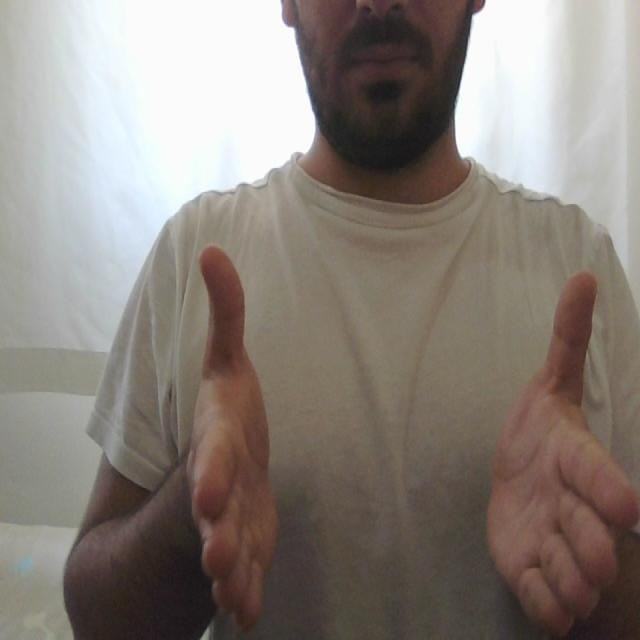Nasil: (168, 240, 629, 640)
